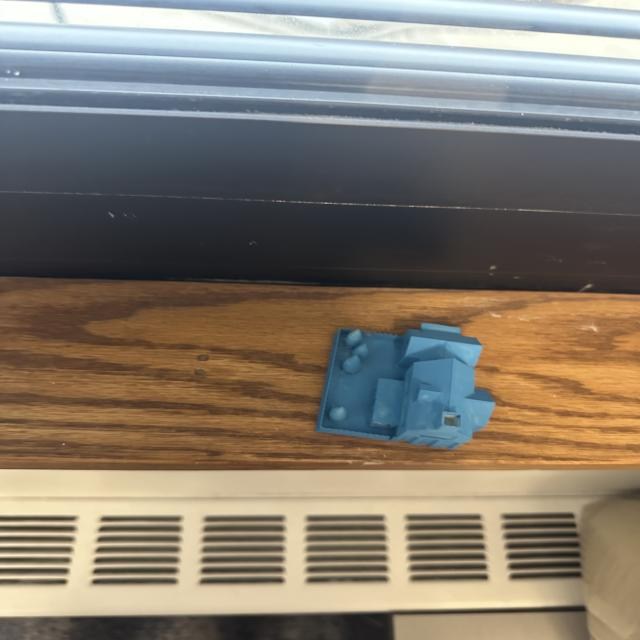house: (311, 319, 499, 451)
